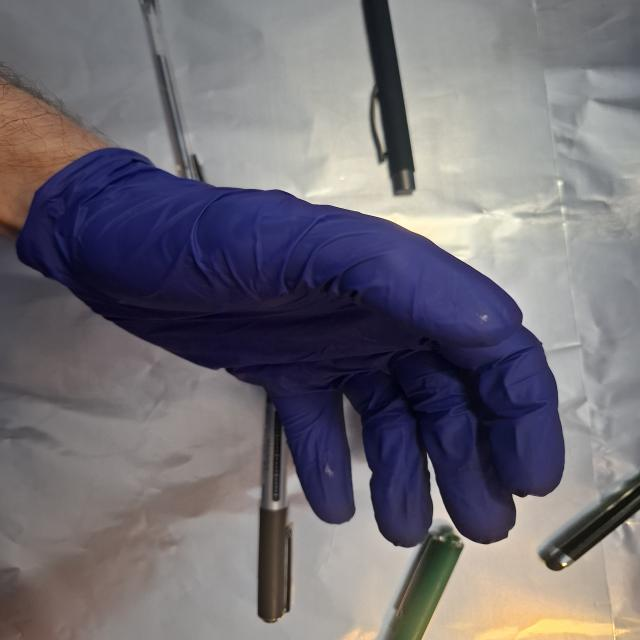glove_on: (19, 146, 570, 551)
